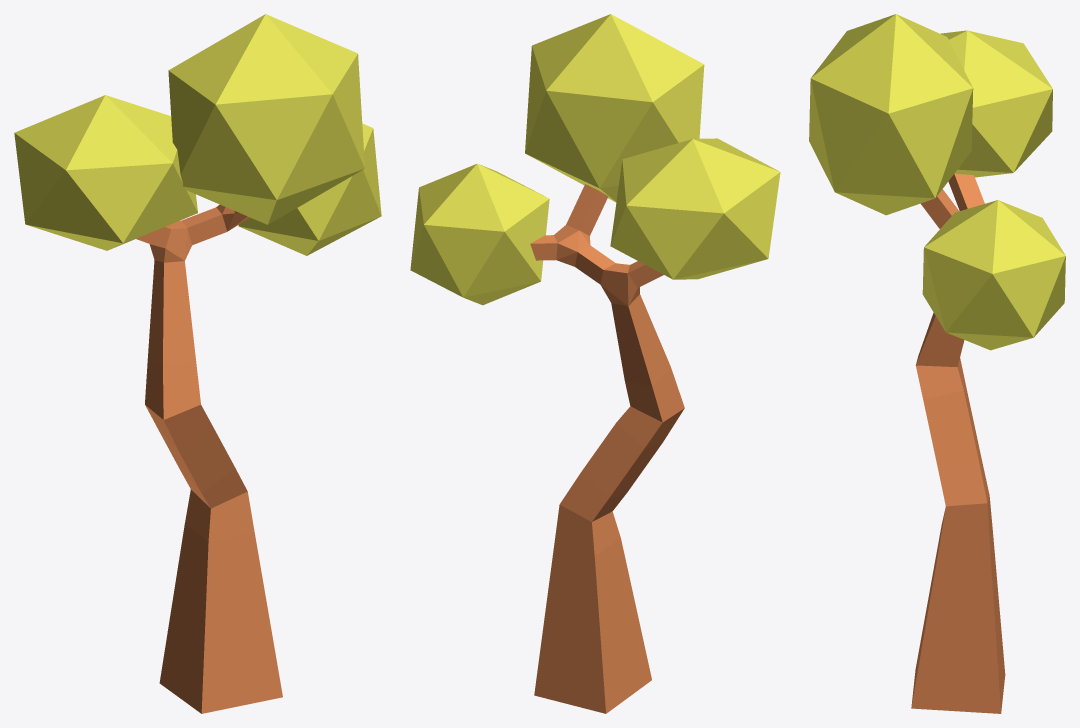
The model's file is arvore3empe.fbx.
The picture shows the model from 3 angles, left to right: view 1: azimuth 30°, elevation 25°; view 2: azimuth 150°, elevation 25°; view 3: azimuth 270°, elevation 25°; orthographic projection. The views are drawn at different scales.
Visible parts, largest first — view 1: Cube; view 2: Cube; view 3: Cube.
Part boxes in pixels (<box>): Cube: <box>14,14,381,713</box>; Cube: <box>410,14,780,713</box>; Cube: <box>809,14,1065,713</box>.
Bounding box in the file's own units: 490 × 905 × 307.
